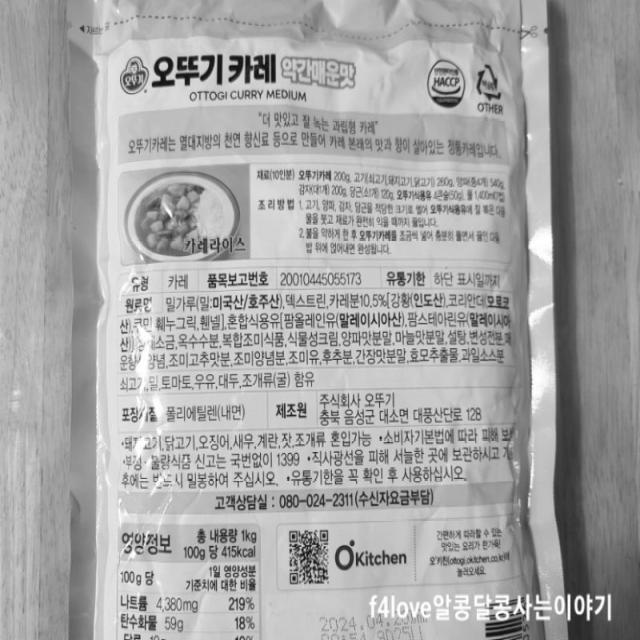Nutrition Label: (114, 519, 264, 640)
